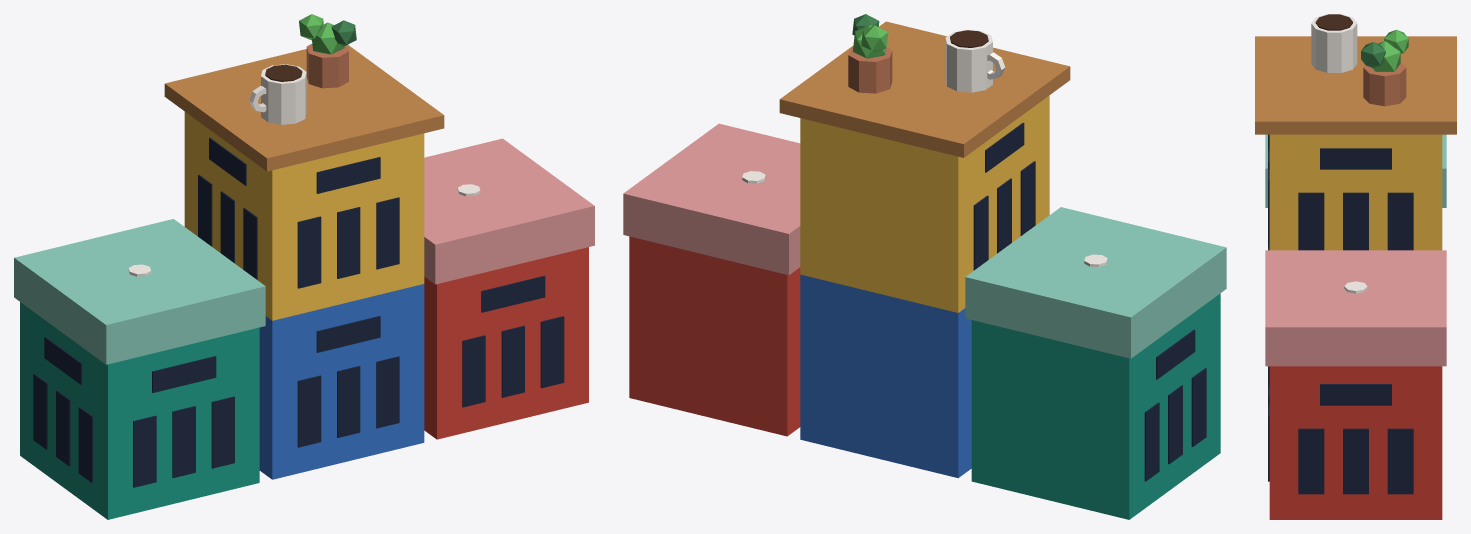
Rendered from CatCafe_Decor_MilkCrateStools.fbx.
3 views of the same model, side by side, from view 1: azimuth 30°, elevation 25°; view 2: azimuth 150°, elevation 25°; view 3: azimuth 270°, elevation 25° (orthographic). The views are drawn at different scales.
Parts seen in each view (by area): view 1: CatCafe_Decor_MilkCrateStools; view 2: CatCafe_Decor_MilkCrateStools; view 3: CatCafe_Decor_MilkCrateStools.
Boxes of the visible parts, x1,y1,x2,y2 form: CatCafe_Decor_MilkCrateStools: (14, 14, 594, 519); CatCafe_Decor_MilkCrateStools: (623, 14, 1226, 519); CatCafe_Decor_MilkCrateStools: (1255, 14, 1456, 519).
Bounding box in the file's own units: 3.86 × 2.97 × 1.4.
Materials: 1 (1 with a texture image).
